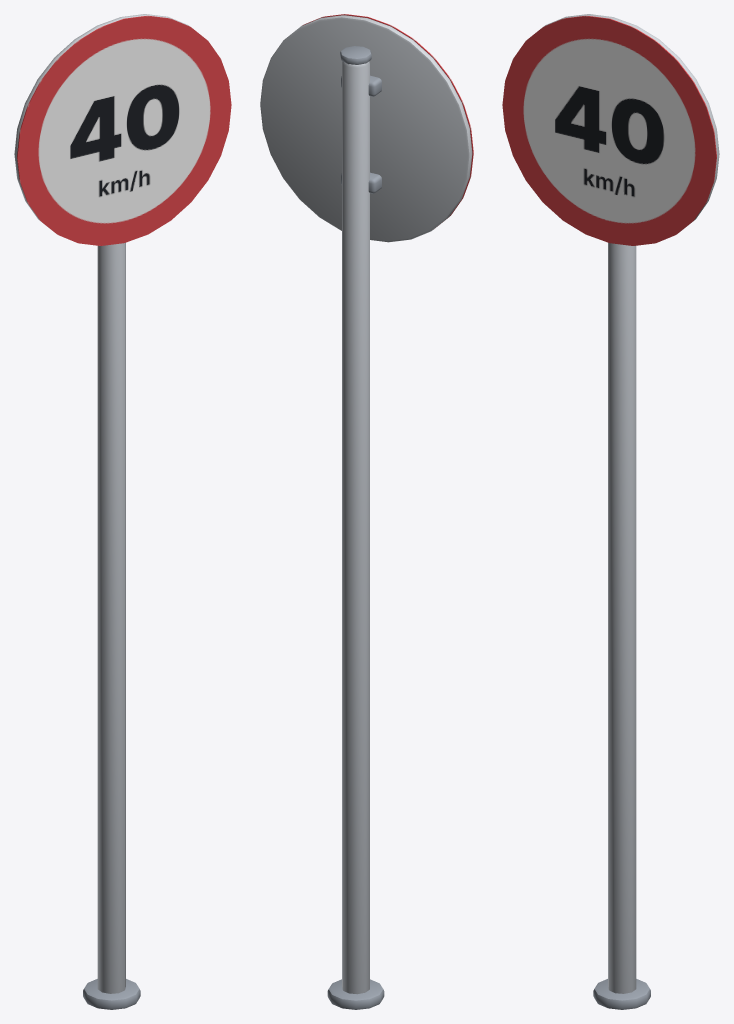
Rendered from placa_velocidade.glb.
The picture shows the model from 3 angles, left to right: view 1: azimuth 30°, elevation 25°; view 2: azimuth 150°, elevation 25°; view 3: azimuth 330°, elevation 25°; orthographic projection.
Visible parts, largest first — view 1: placa_velocidade; view 2: placa_velocidade; view 3: placa_velocidade.
Boxes of the visible parts, left/top/right/bottom form: placa_velocidade: left=14, top=14, right=231, bottom=1009; placa_velocidade: left=260, top=14, right=473, bottom=1009; placa_velocidade: left=502, top=14, right=719, bottom=1009.
Bounding box in the file's own units: 0.6 × 2.65 × 0.14.
2 materials, 2 textured.
